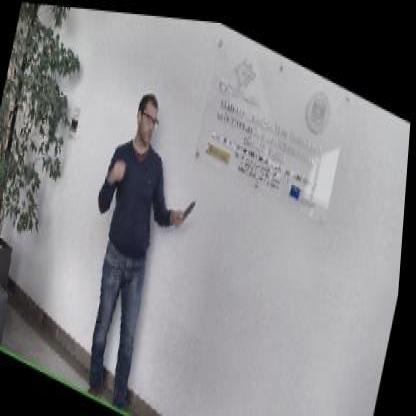knife: (176, 183, 200, 229)
